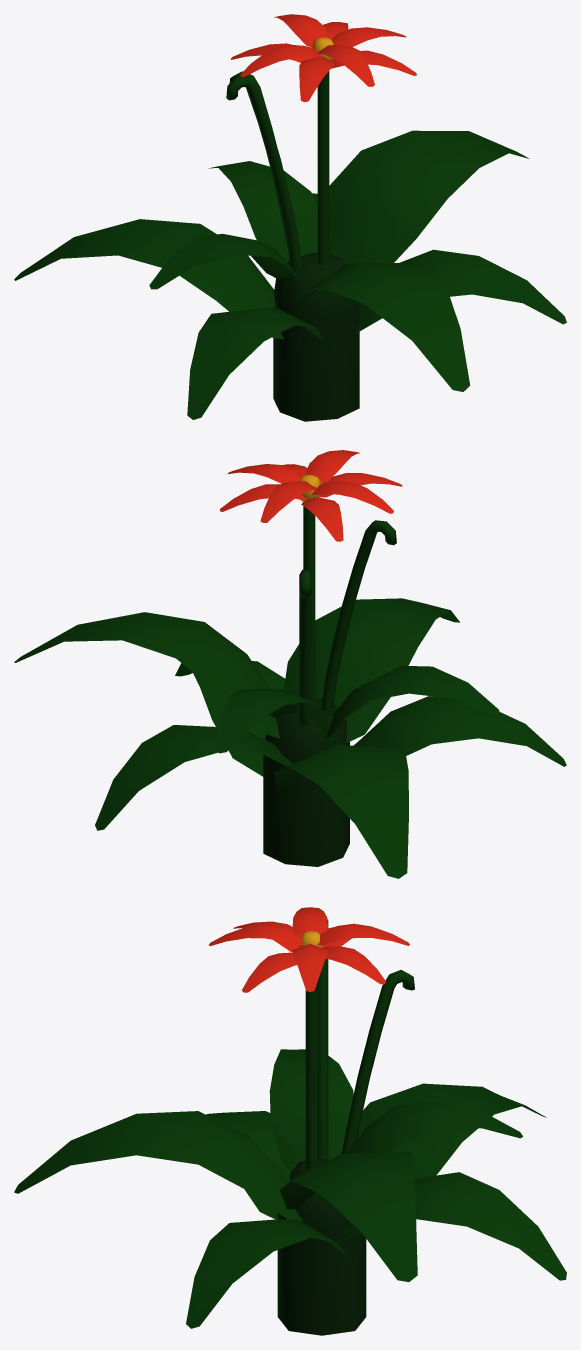
Rendered from HealingPlant_Empty.fbx.
The picture shows the model from 3 angles, top to bottom: view 1: azimuth 30°, elevation 25°; view 2: azimuth 150°, elevation 25°; view 3: azimuth 270°, elevation 25°; orthographic projection. The views are drawn at different scales.
Parts seen in each view (by area): view 1: Plane.003, Cube, Plane.001, Plane.002, Plane.006, Plane.008, Plane.005, Plane.007, Cylinder.002, Cylinder.001, Plane.010, Plane.011 (+4 smaller); view 2: Plane.001, Plane.002, Cube, Plane.003, Plane.006, Plane.004, Plane.007, Plane.008, Cylinder.002, Plane.005, Cylinder.003, Cylinder.001 (+7 smaller); view 3: Plane.001, Cube, Plane.003, Plane.004, Plane.005, Plane.007, Plane.002, Plane.008, Cylinder.003, Cylinder.001, Cylinder.002, Plane.006 (+6 smaller).
Part boxes in pixels (x1,y1,x2,y2): Plane.003: [329, 130, 529, 264]; Cube: [273, 252, 359, 421]; Plane.001: [290, 262, 470, 391]; Plane.002: [14, 219, 284, 339]; Plane.006: [187, 307, 324, 419]; Plane.008: [208, 161, 317, 261]; Plane.005: [355, 249, 566, 333]; Plane.007: [149, 233, 305, 290]; Cylinder.002: [226, 75, 302, 271]; Cylinder.001: [317, 71, 329, 264]; Plane.010: [318, 45, 374, 86]; Plane.011: [240, 45, 323, 76]; Plane.001: [284, 598, 459, 742]; Plane.002: [274, 745, 408, 878]; Cube: [263, 698, 349, 866]; Plane.003: [14, 612, 279, 738]; Plane.006: [354, 696, 566, 766]; Plane.004: [95, 725, 292, 830]; Plane.007: [326, 665, 499, 737]; Plane.008: [215, 689, 328, 753]; Cylinder.002: [321, 520, 396, 716]; Plane.005: [175, 661, 285, 776]; Cylinder.003: [299, 569, 311, 726]; Cylinder.001: [303, 506, 315, 702]; Plane.001: [14, 1111, 303, 1221]; Cube: [277, 1159, 366, 1335]; Plane.003: [279, 1152, 417, 1281]; Plane.004: [342, 1172, 566, 1280]; Plane.005: [186, 1219, 349, 1328]; Plane.007: [269, 1049, 353, 1171]; Plane.002: [357, 1083, 546, 1180]; Plane.008: [348, 1101, 522, 1153]; Cylinder.003: [341, 970, 414, 1154]; Cylinder.001: [305, 981, 317, 1169]; Cylinder.002: [318, 920, 328, 1159]; Plane.006: [206, 1111, 290, 1219].
Bounding box in the file's own units: 101 × 79.59 × 102.
